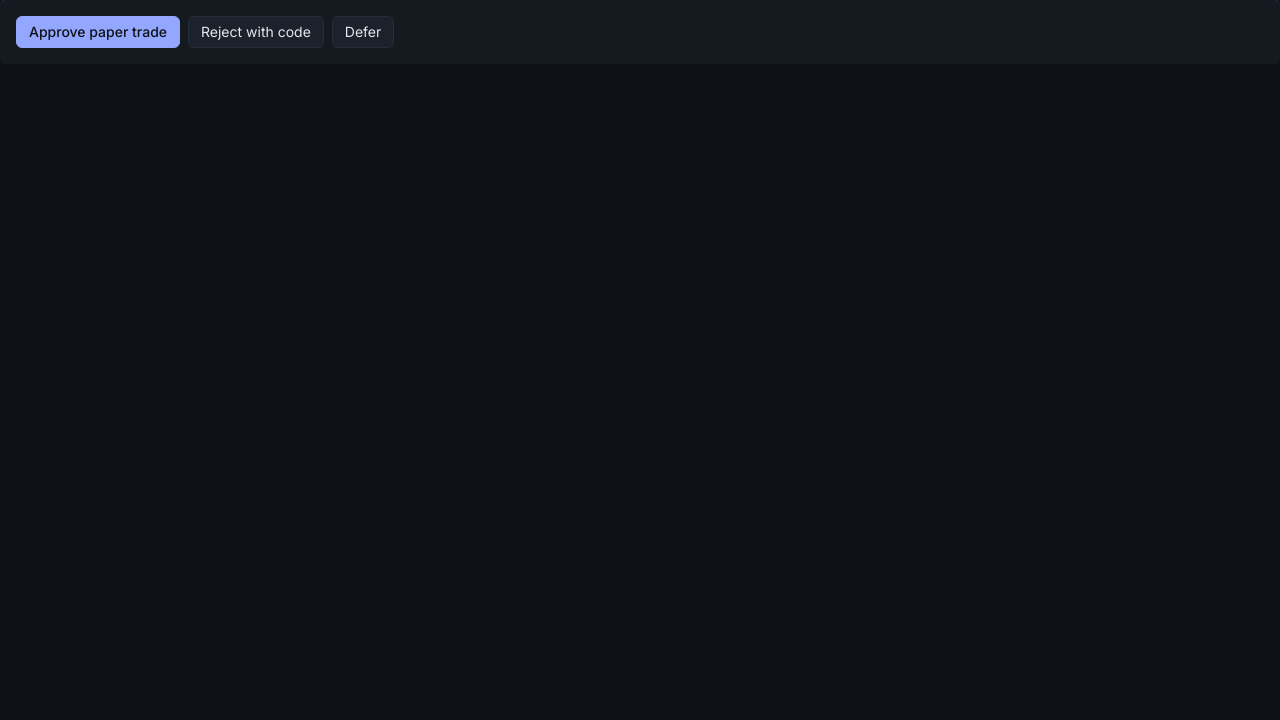
it: approve › opening approve sends nothing; the dialog names ticker, strategy and credit
Click the button "Approve paper trade".
click(98, 32)  # box [16,16,180,48]
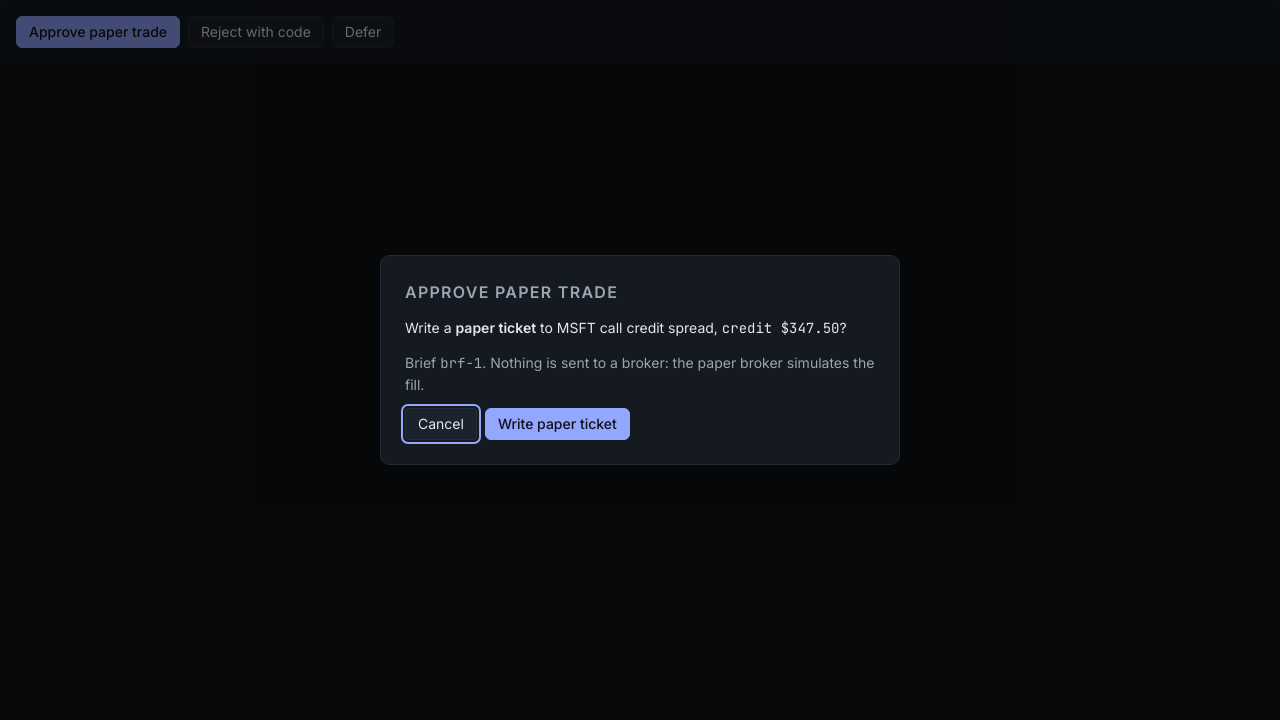
expect the dialog "Approve paper trade" shows "paper ticket": met, box [456,319,536,336]
expect the dialog "Approve paper trade" shows "MSFT call credit spread": met, box [557,319,714,336]
expect the dialog "Approve paper trade" shows "credit $347.50": met, box [722,319,839,337]
